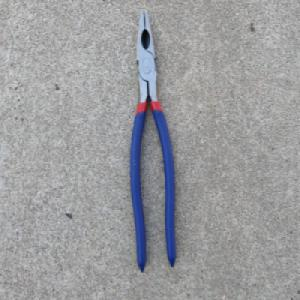Pliers: (128, 6, 177, 273)
